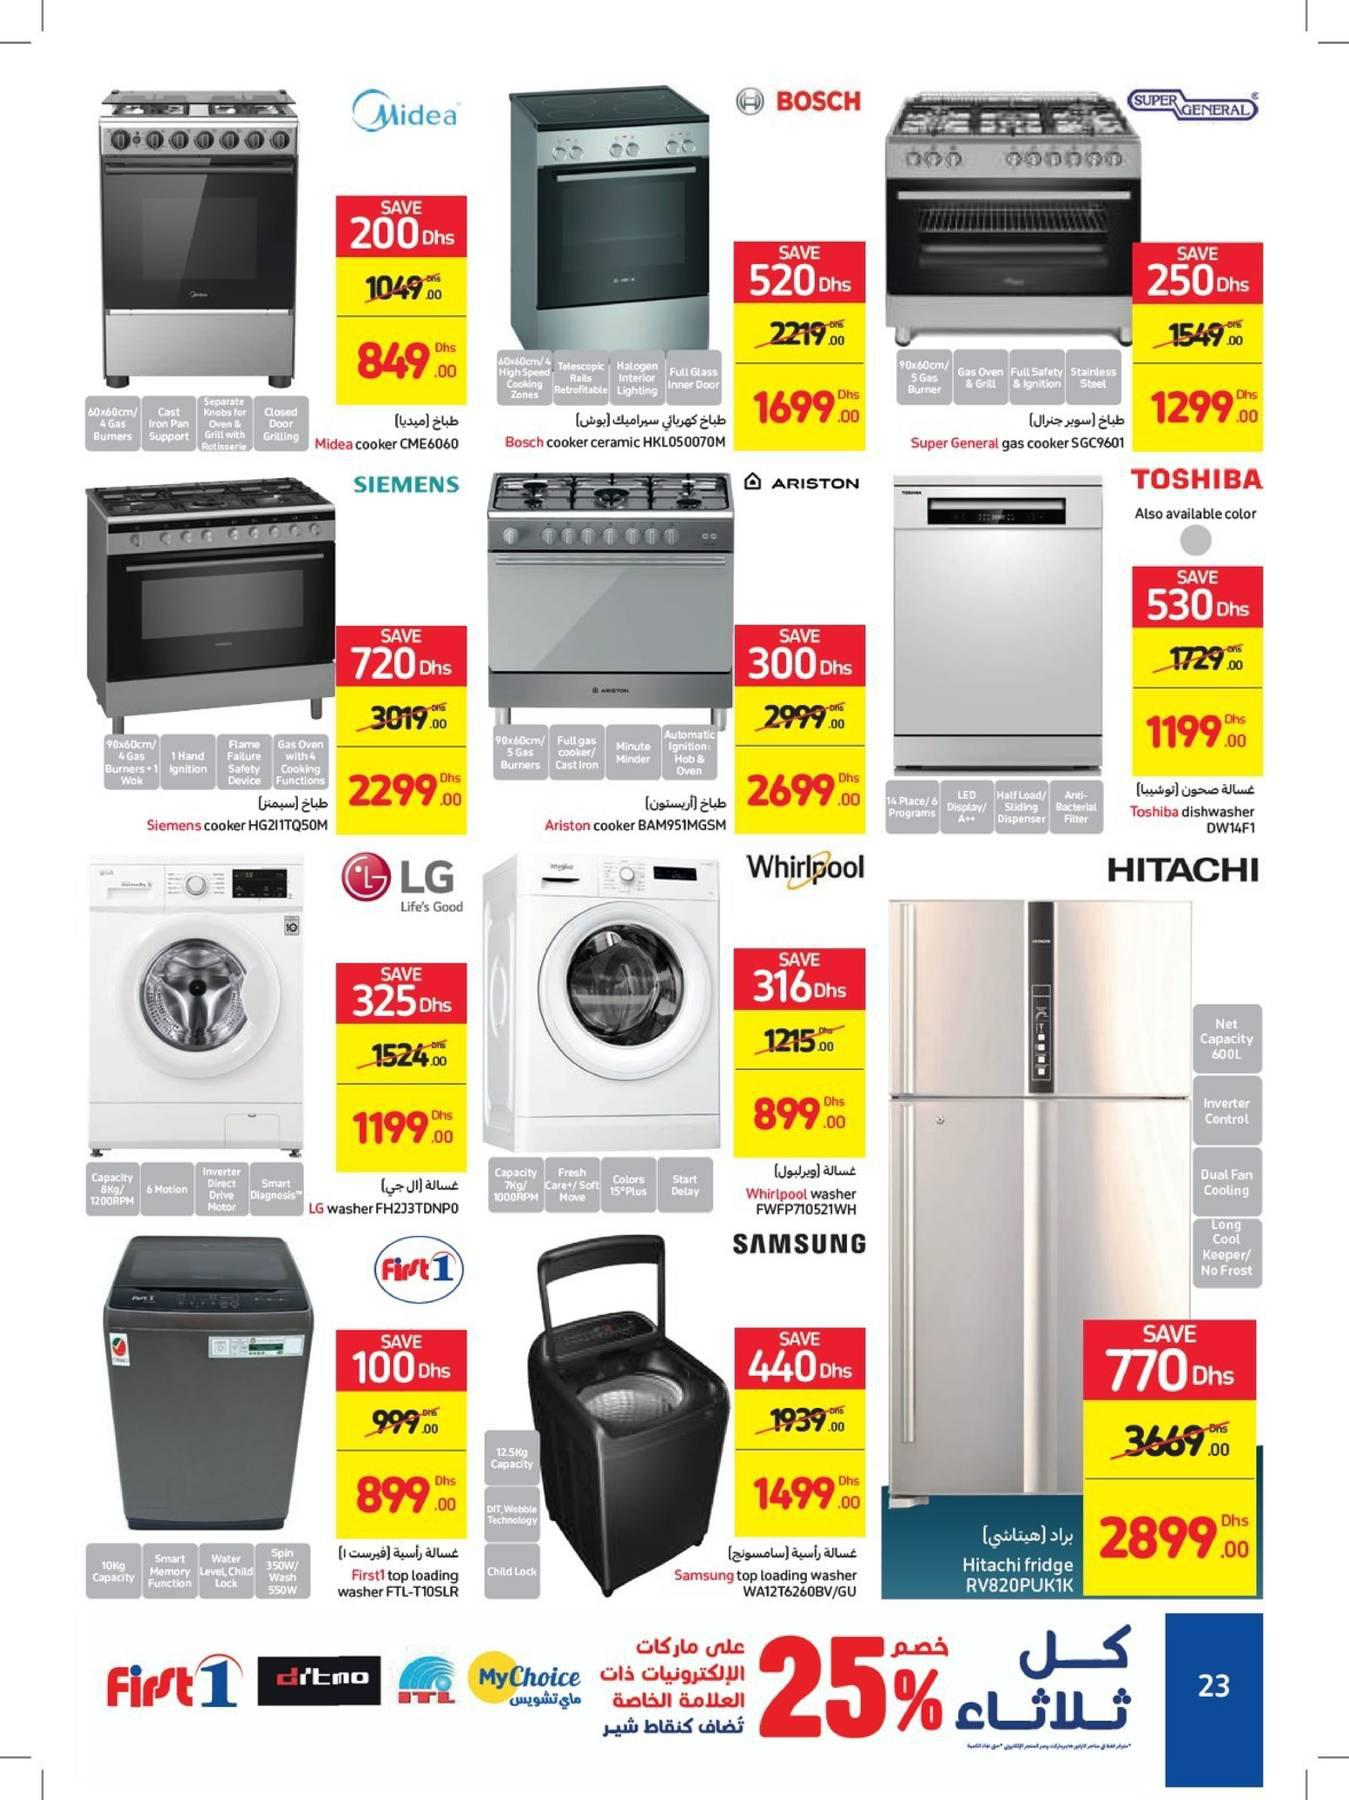text: (663, 1536, 874, 1610), (891, 404, 1132, 462), (497, 405, 734, 455), (530, 788, 730, 840), (324, 1536, 469, 1607), (115, 792, 333, 839), (1121, 778, 1272, 843), (300, 1172, 476, 1226), (731, 1157, 871, 1220), (309, 407, 479, 456)
